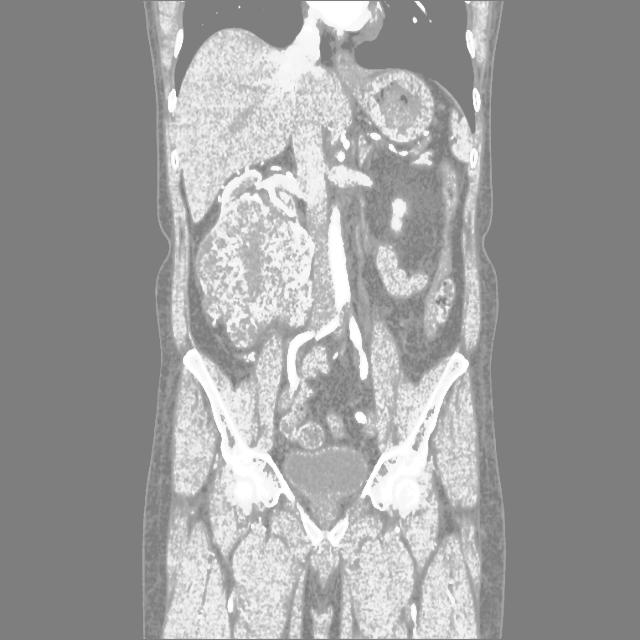TUMOR: (118, 155, 527, 384)
